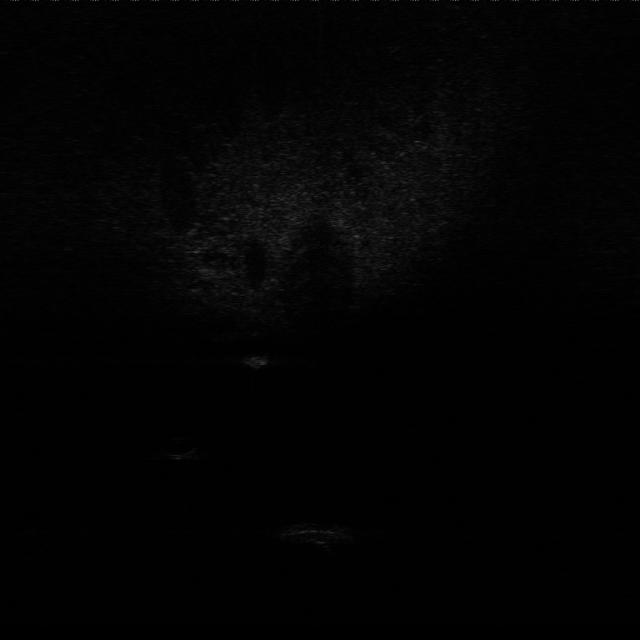ball: (160, 442, 200, 467)
circle cage: (284, 518, 357, 556)
cube: (237, 352, 278, 375)
